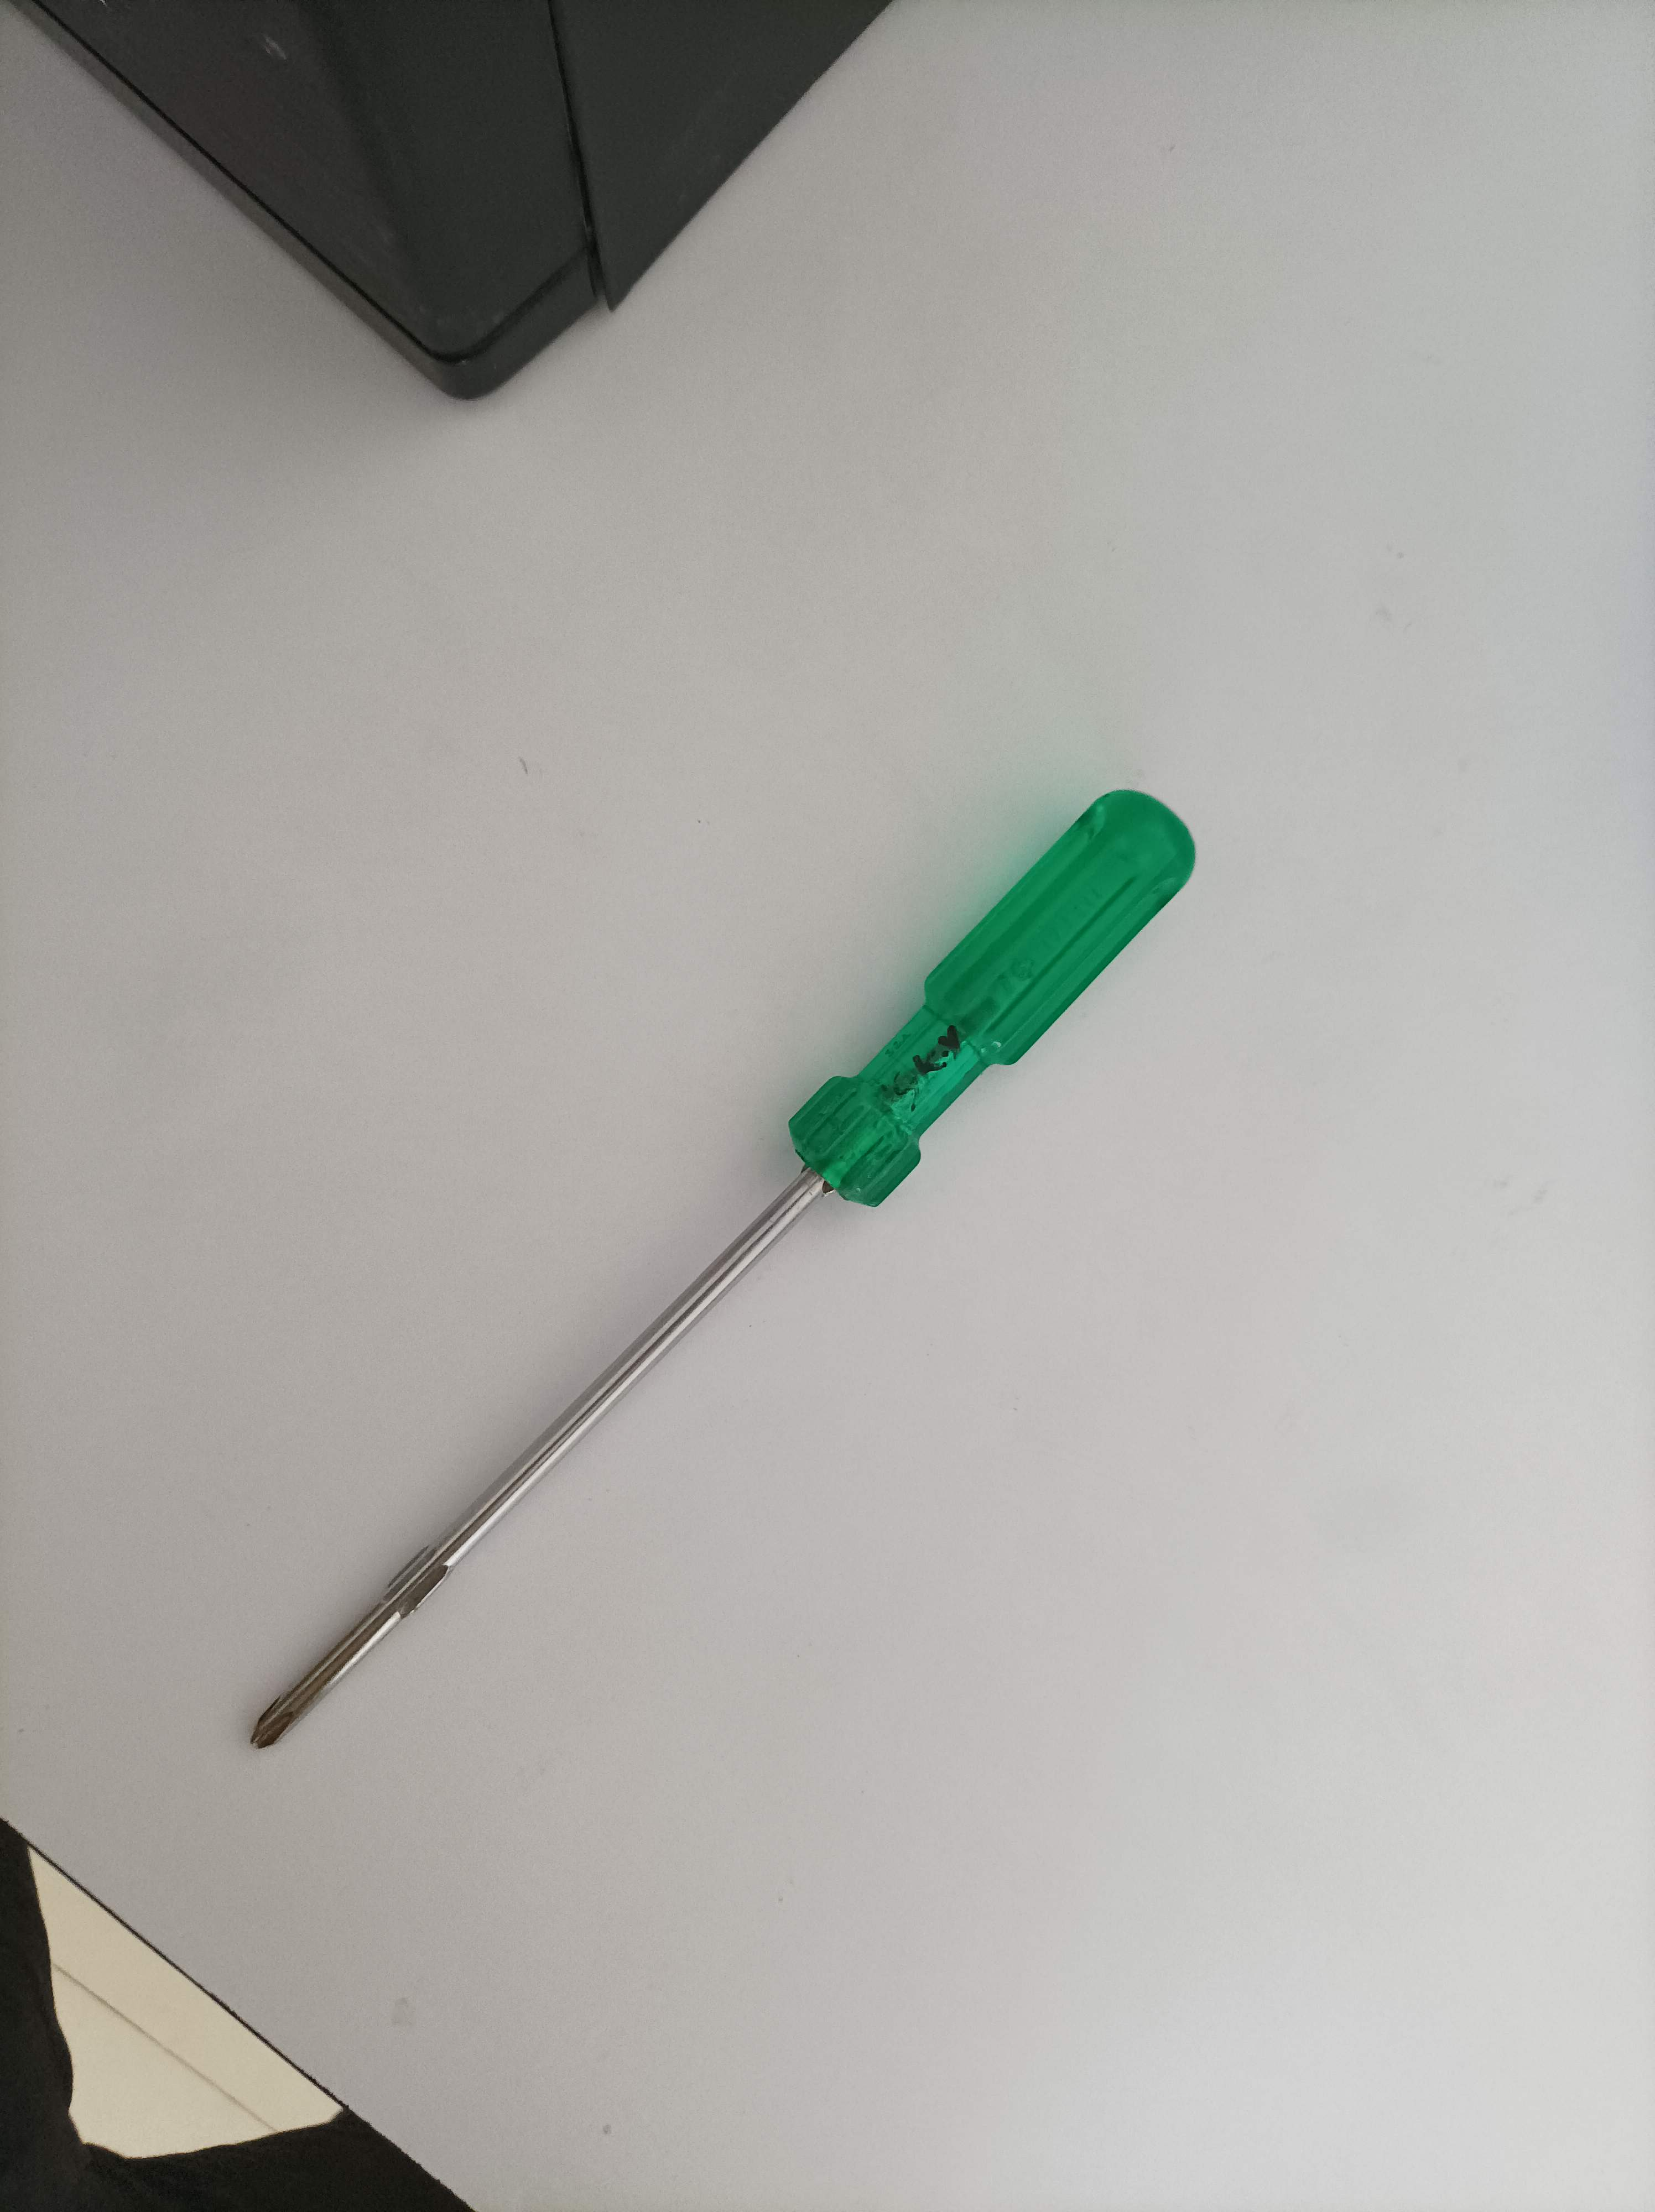screwdriver: (242, 778, 1201, 1767)
